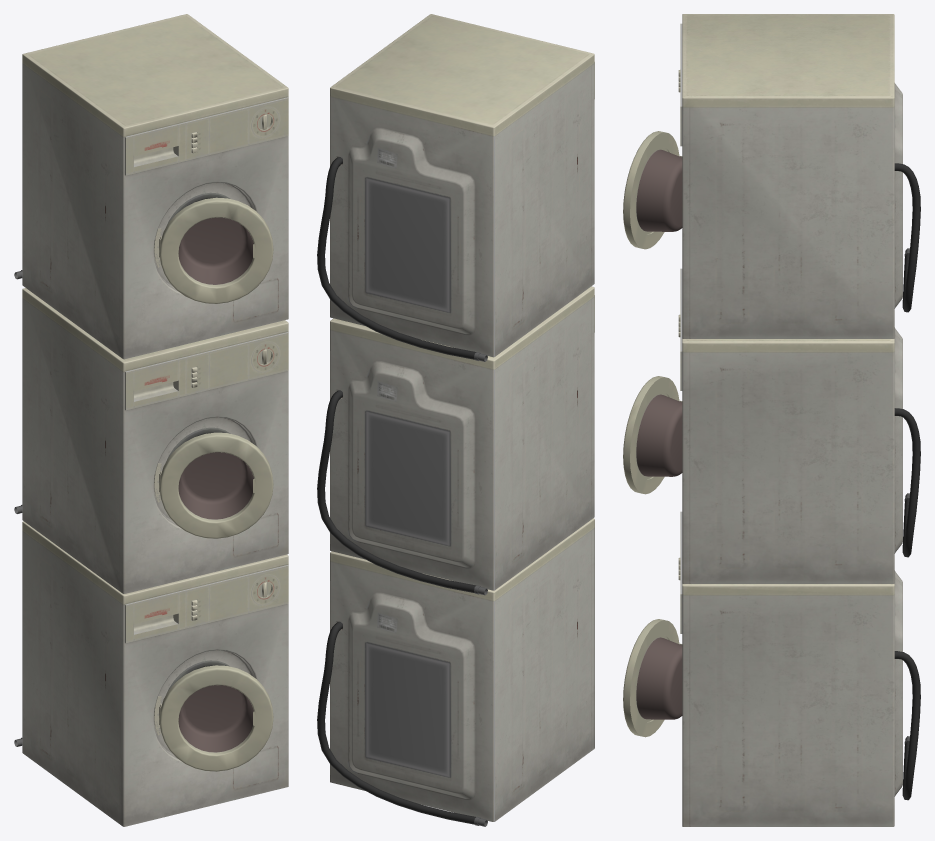
3 views of the same model, side by side, from view 1: azimuth 30°, elevation 25°; view 2: azimuth 150°, elevation 25°; view 3: azimuth 270°, elevation 25° (orthographic). The views are drawn at different scales.
Visible parts, largest first — view 1: defaultMaterial.022, defaultMaterial.001; view 2: defaultMaterial.022, defaultMaterial.001; view 3: defaultMaterial.022, defaultMaterial.001.
Part boxes in pixels (bbox=[...]): defaultMaterial.022: bbox=[14, 14, 288, 593]; defaultMaterial.001: bbox=[14, 521, 288, 826]; defaultMaterial.022: bbox=[317, 14, 594, 595]; defaultMaterial.001: bbox=[317, 518, 594, 826]; defaultMaterial.022: bbox=[623, 14, 920, 583]; defaultMaterial.001: bbox=[623, 511, 920, 826].
Size of the model in its own units: 1.37 by 5.44 by 2.
Materials: 2 (2 with a texture image).
